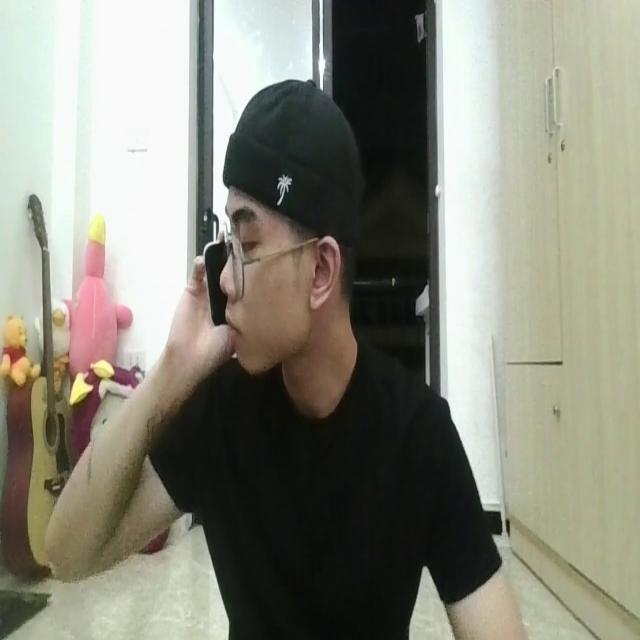phone: (204, 207, 238, 327)
student: (36, 75, 534, 640)
